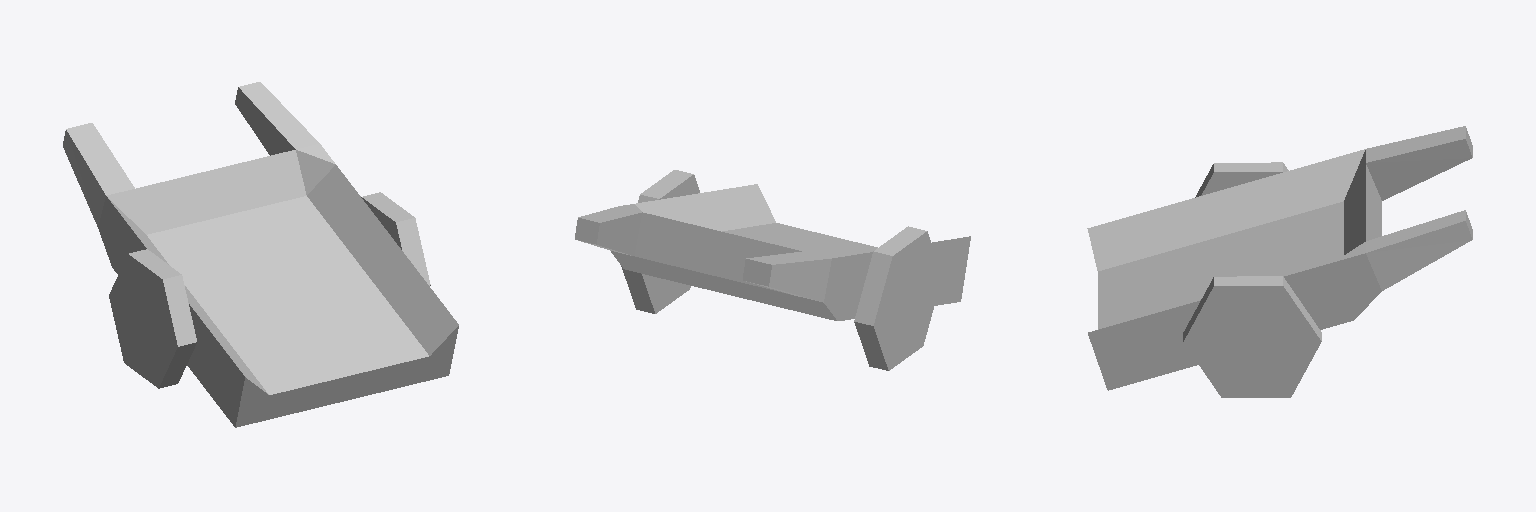
Rendered from cart_empty.obj.
3 renders of one model, left to right at view 1: azimuth 30°, elevation 25°; view 2: azimuth 150°, elevation 25°; view 3: azimuth 270°, elevation 25°, orthographic.
Visible parts, largest first — view 1: cuboid, cylinder; view 2: cuboid, cylinder; view 3: cuboid, cylinder.
Boxes of the visible parts, x1=… form: cuboid: x1=63, y1=82, x2=458, y2=427; cylinder: x1=109, y1=192, x2=430, y2=388; cuboid: x1=575, y1=184, x2=970, y2=320; cylinder: x1=621, y1=170, x2=942, y2=370; cuboid: x1=1087, y1=126, x2=1472, y2=390; cylinder: x1=1183, y1=162, x2=1321, y2=397.
Bounding box in the file's own units: 1.62 × 1.02 × 2.14.